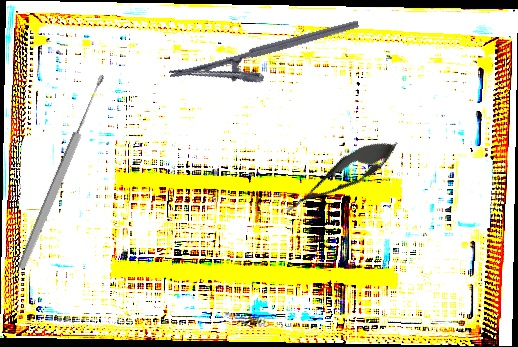Micro Scissor: (276, 128, 406, 225)
Needle Holder: (168, 19, 367, 105)
Surgical Spoon: (15, 72, 109, 272)
